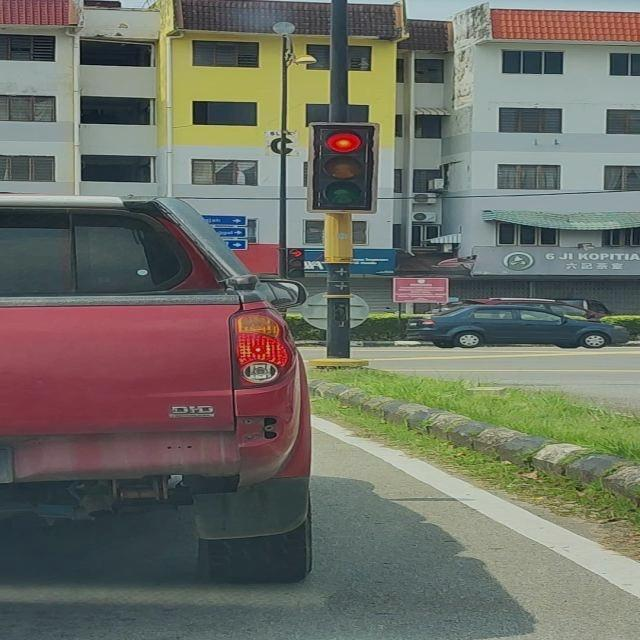Red: (308, 122, 379, 215), (286, 248, 305, 277)
